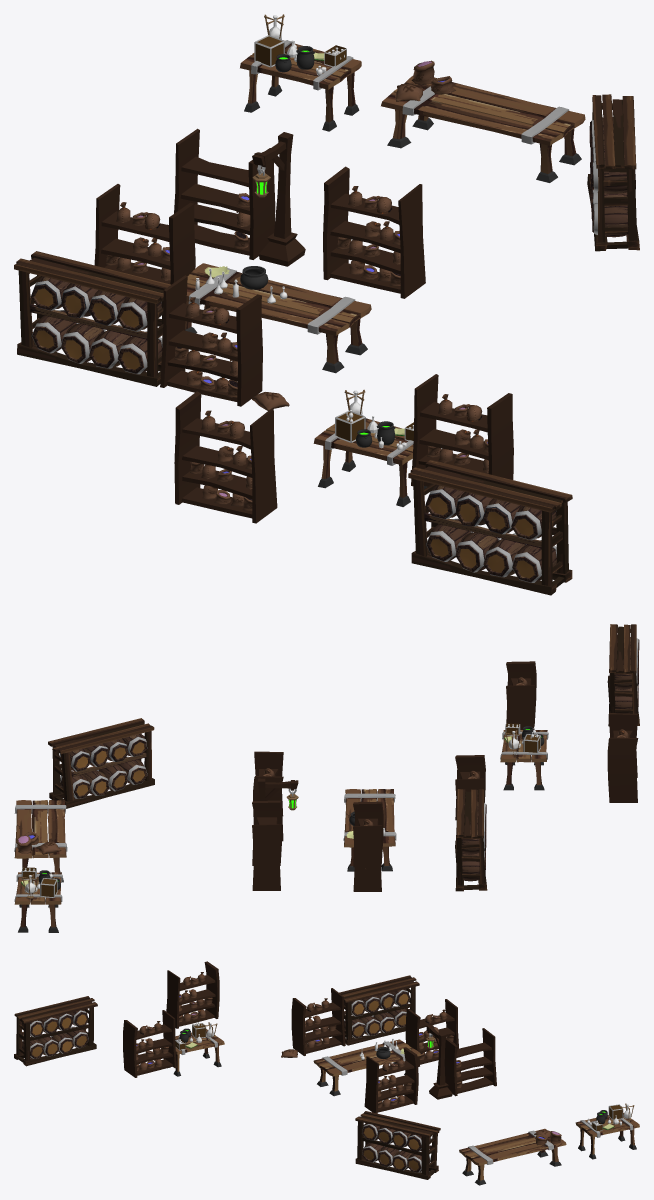
Rendered from LabBRomDec.fbx.
3 renders of one model, top to bottom at view 1: azimuth 30°, elevation 25°; view 2: azimuth 150°, elevation 25°; view 3: azimuth 270°, elevation 25°, orthographic. The views are drawn at different scales.
Visible parts, largest first — view 1: SM_PROP_barrel_shelf_dungeon_01.010, SM_PROP_barrel_shelf_dungeon_01.009, Mesa_Rectangular_a.009, Cube.1372, Cube.1369, Cube.1370, SM_PROP_barrel_shelf_dungeon_01.011, Cube.1367, Mesa_Rectangular_a.008, Cube.1371, Cube.1368, Mesa_Rectangular_a.010 (+2 smaller); view 2: SM_PROP_barrel_shelf_dungeon_01.011, SM_PROP_barrel_shelf_dungeon_01.009, SM_PROP_barrel_shelf_dungeon_01.010, Cube.1370, Cube.1368, Mesa_Rectangular_a.009, Cube.1372, Cube.1371, Mesa_Rectangular_a.008, Mesa_Rectangular_a.011, Mesa_Rectangular_a.010, Cube.1369 (+2 smaller); view 3: SM_PROP_barrel_shelf_dungeon_01.011, SM_PROP_barrel_shelf_dungeon_01.010, SM_PROP_barrel_shelf_dungeon_01.009, Cube.1370, Mesa_Rectangular_a.009, Cube.1367, Cube.1371, Cube.1369, Cube.1372, Mesa_Rectangular_a.008, Cube.1368, Mesa_Rectangular_a.010 (+2 smaller).
Part boxes in pixels (x1,y1,x2,y2): SM_PROP_barrel_shelf_dungeon_01.010: [408, 459, 572, 595]; SM_PROP_barrel_shelf_dungeon_01.009: [14, 251, 170, 386]; Mesa_Rectangular_a.009: [381, 76, 585, 182]; Cube.1372: [174, 391, 277, 523]; Cube.1369: [323, 166, 425, 298]; Cube.1370: [174, 128, 275, 259]; SM_PROP_barrel_shelf_dungeon_01.011: [587, 94, 639, 251]; Cube.1367: [160, 275, 262, 406]; Mesa_Rectangular_a.008: [185, 263, 371, 373]; Cube.1371: [411, 374, 513, 486]; Cube.1368: [94, 184, 195, 284]; Mesa_Rectangular_a.010: [240, 40, 361, 131]; SM_PROP_barrel_shelf_dungeon_01.011: [48, 718, 154, 808]; SM_PROP_barrel_shelf_dungeon_01.009: [455, 789, 487, 891]; SM_PROP_barrel_shelf_dungeon_01.010: [607, 624, 639, 726]; Cube.1370: [252, 800, 282, 890]; Cube.1368: [353, 801, 383, 891]; Mesa_Rectangular_a.009: [14, 800, 67, 882]; Cube.1372: [607, 713, 638, 802]; Cube.1371: [506, 661, 536, 751]; Mesa_Rectangular_a.008: [343, 789, 396, 871]; Mesa_Rectangular_a.011: [500, 730, 548, 790]; Mesa_Rectangular_a.010: [14, 872, 62, 932]; Cube.1369: [253, 751, 283, 841]; SM_PROP_barrel_shelf_dungeon_01.011: [355, 1111, 440, 1179]; SM_PROP_barrel_shelf_dungeon_01.010: [14, 996, 97, 1066]; SM_PROP_barrel_shelf_dungeon_01.009: [339, 975, 419, 1045]; Cube.1370: [444, 1028, 496, 1096]; Mesa_Rectangular_a.009: [459, 1128, 566, 1185]; Cube.1367: [291, 988, 345, 1055]; Cube.1371: [123, 1010, 176, 1077]; Cube.1369: [364, 1047, 418, 1113]; Cube.1372: [166, 961, 219, 1028]; Mesa_Rectangular_a.008: [313, 1039, 420, 1096]; Cube.1368: [405, 999, 458, 1066]; Mesa_Rectangular_a.010: [575, 1113, 639, 1159].
Bounding box in the file's own units: 15.08 × 2.9 × 23.54.
Materials: 17 (4 with a texture image).
